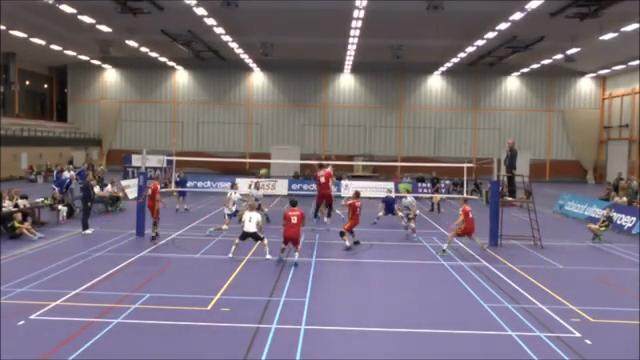attacco: (308, 158, 335, 227)
